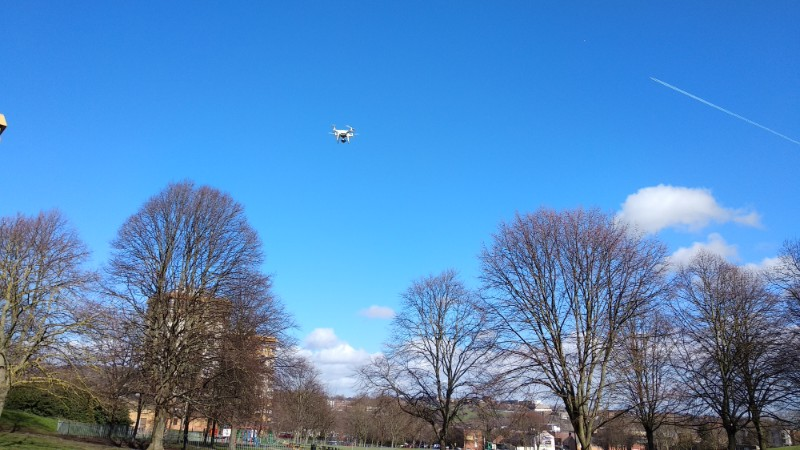drone: (328, 125, 360, 146)
